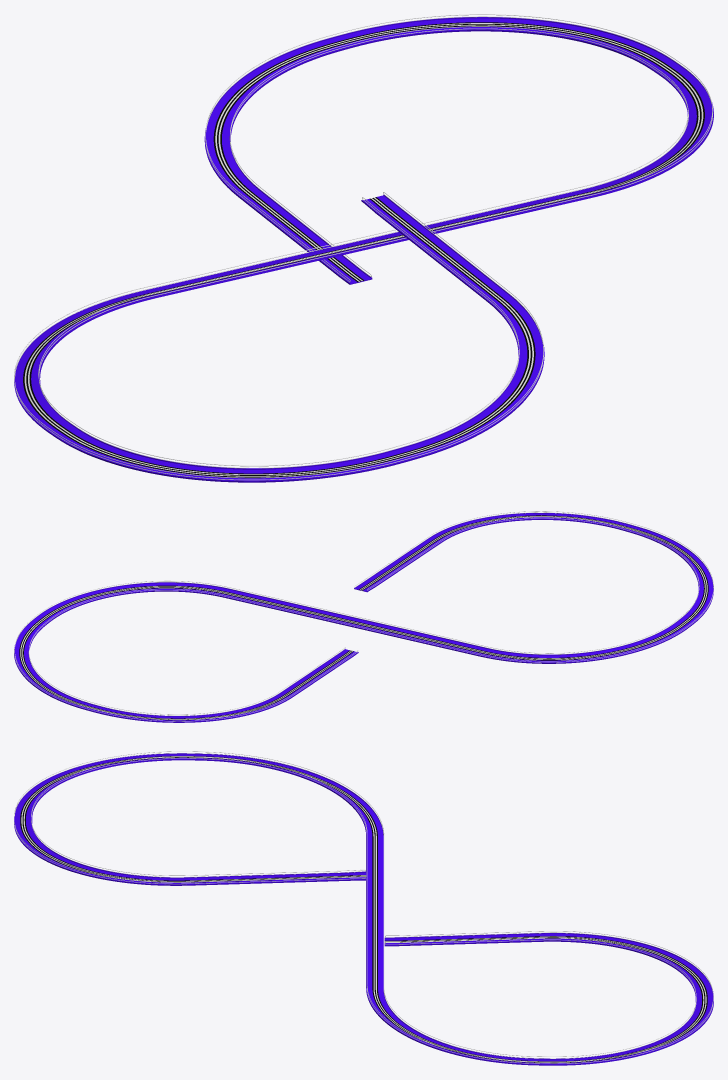
File: s-fly over 1.fbx
3 renders of one model, top to bottom at view 1: azimuth 30°, elevation 25°; view 2: azimuth 150°, elevation 25°; view 3: azimuth 270°, elevation 25°, orthographic. The views are drawn at different scales.
Parts seen in each view (by area): view 1: Straight road.012; view 2: Straight road.012; view 3: Straight road.012.
Boxes of the visible parts, <box> form: Straight road.012: <box>14,14,713,482</box>; Straight road.012: <box>14,511,713,722</box>; Straight road.012: <box>14,751,713,1065</box>.
Bounding box in the file's own units: 6160 × 664 × 6154.
